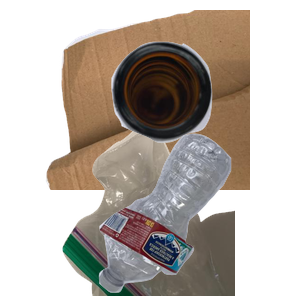cardboard: (43, 10, 283, 190)
glass: (109, 39, 300, 175)
plastic: (96, 131, 300, 300)
trash: (60, 120, 300, 300)
